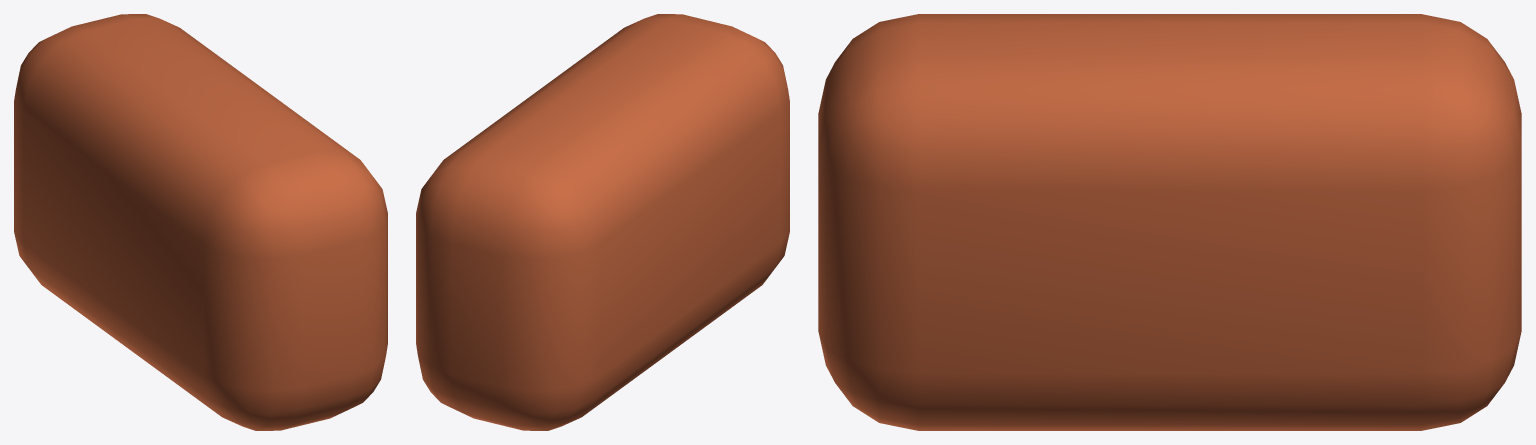
Rendered from rotary_hammer_trigger.glb.
The picture shows the model from 3 angles, left to right: view 1: azimuth 30°, elevation 25°; view 2: azimuth 150°, elevation 25°; view 3: azimuth 270°, elevation 25°; orthographic projection. The views are drawn at different scales.
Parts seen in each view (by area): view 1: rotary_hammer_trigger; view 2: rotary_hammer_trigger; view 3: rotary_hammer_trigger.
Part boxes in pixels (x1,y1,x2,y2): rotary_hammer_trigger: (14, 14, 387, 430); rotary_hammer_trigger: (416, 14, 789, 430); rotary_hammer_trigger: (818, 14, 1521, 430).
Size of the model in its own units: 0.014 by 0.02 by 0.035.
